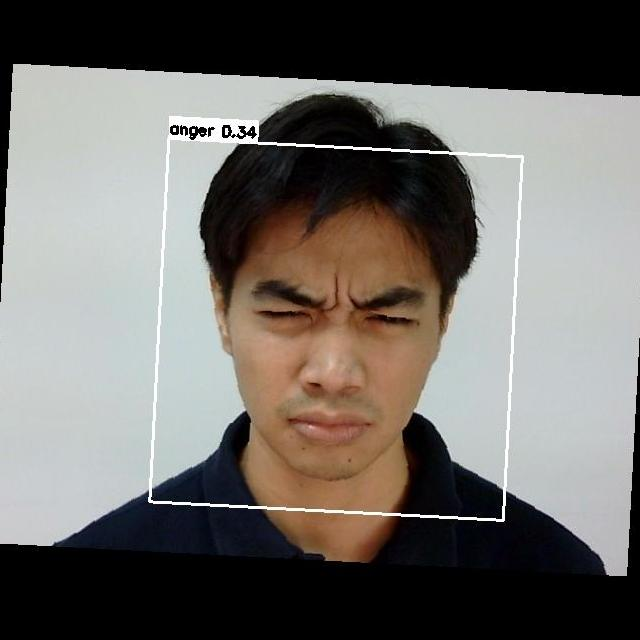Angry: (207, 241, 443, 453)
